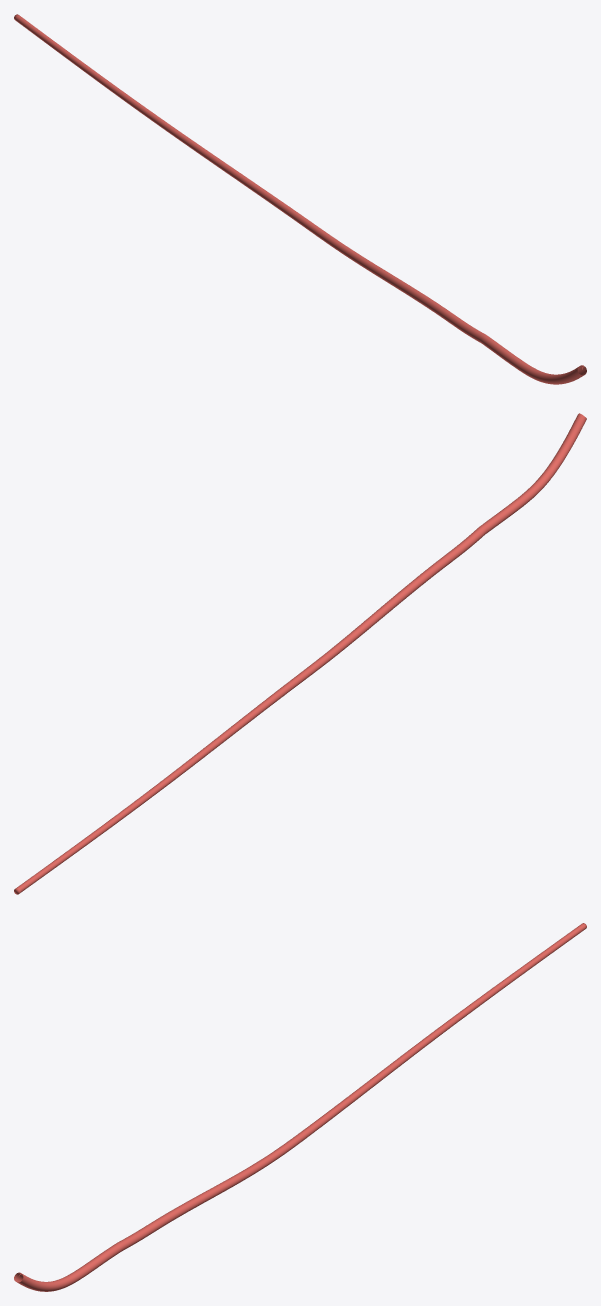
3 views of the same model, one above another, from view 1: azimuth 30°, elevation 25°; view 2: azimuth 150°, elevation 25°; view 3: azimuth 330°, elevation 25° (orthographic).
Visible parts, largest first — view 1: Anterior spinal; view 2: Anterior spinal; view 3: Anterior spinal.
Boxes of the visible parts, x1=… form: Anterior spinal: x1=14, y1=14, x2=586, y2=384; Anterior spinal: x1=14, y1=413, x2=586, y2=894; Anterior spinal: x1=14, y1=923, x2=586, y2=1291.
Size of the model in its own units: 0.8174 by 3.76 by 56.16.
